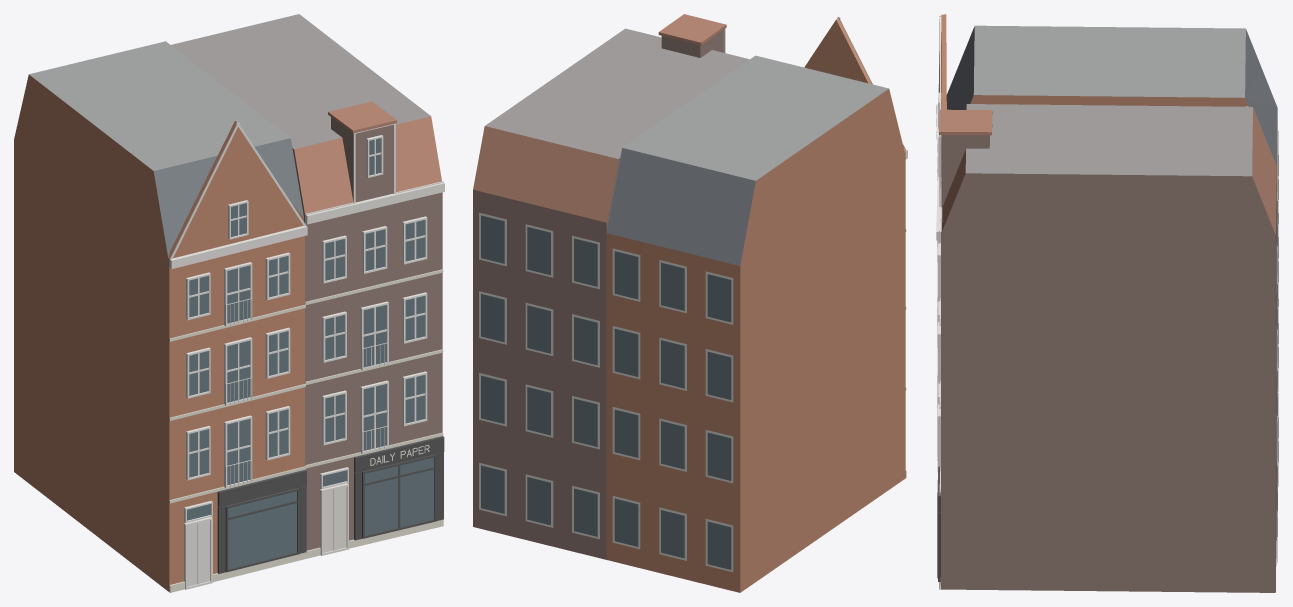
File: chunk-face-bilder-157757-164549.glb
3 renders of one model, left to right at view 1: azimuth 30°, elevation 25°; view 2: azimuth 150°, elevation 25°; view 3: azimuth 270°, elevation 25°, orthographic. The views are drawn at different scales.
Parts seen in each view (by area): view 1: face-bilder-157757-164549; view 2: face-bilder-157757-164549; view 3: face-bilder-157757-164549.
Part boxes in pixels (box(x1,y1,x2,y2)): face-bilder-157757-164549: box(14, 14, 444, 592); face-bilder-157757-164549: box(473, 14, 907, 592); face-bilder-157757-164549: box(936, 14, 1278, 592).
Bounding box in the file's own units: 12.13 × 18.77 × 12.36.
